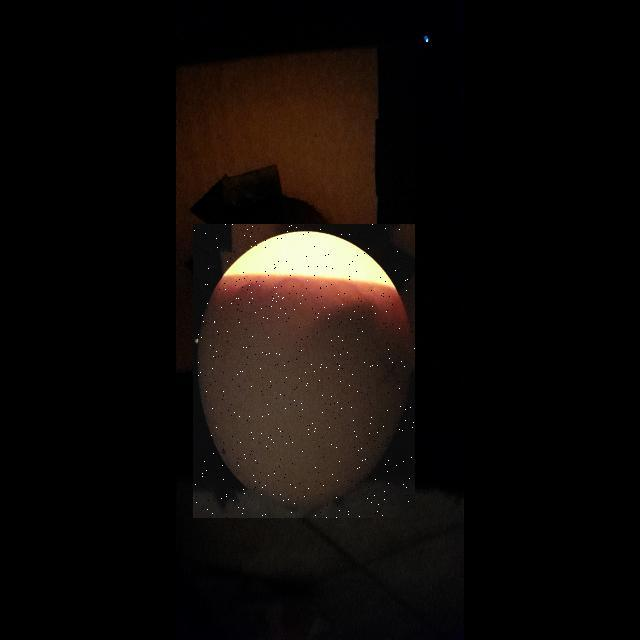Fertile: (193, 224, 415, 518)
